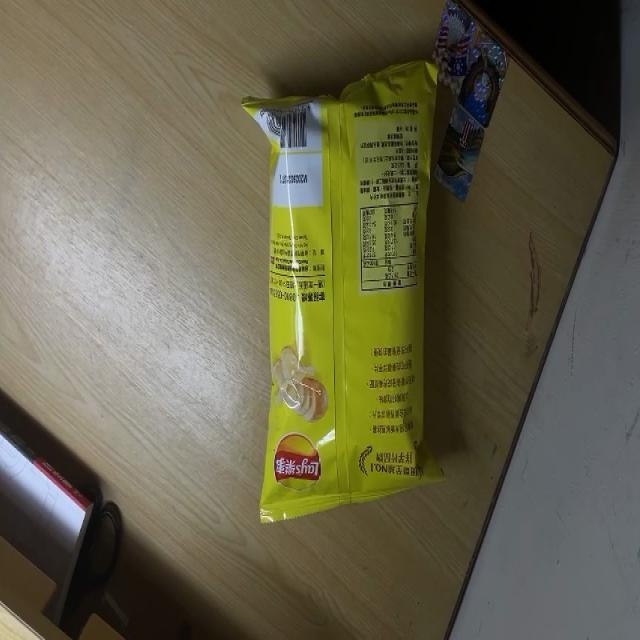Lay-s-original: (239, 58, 450, 526)
